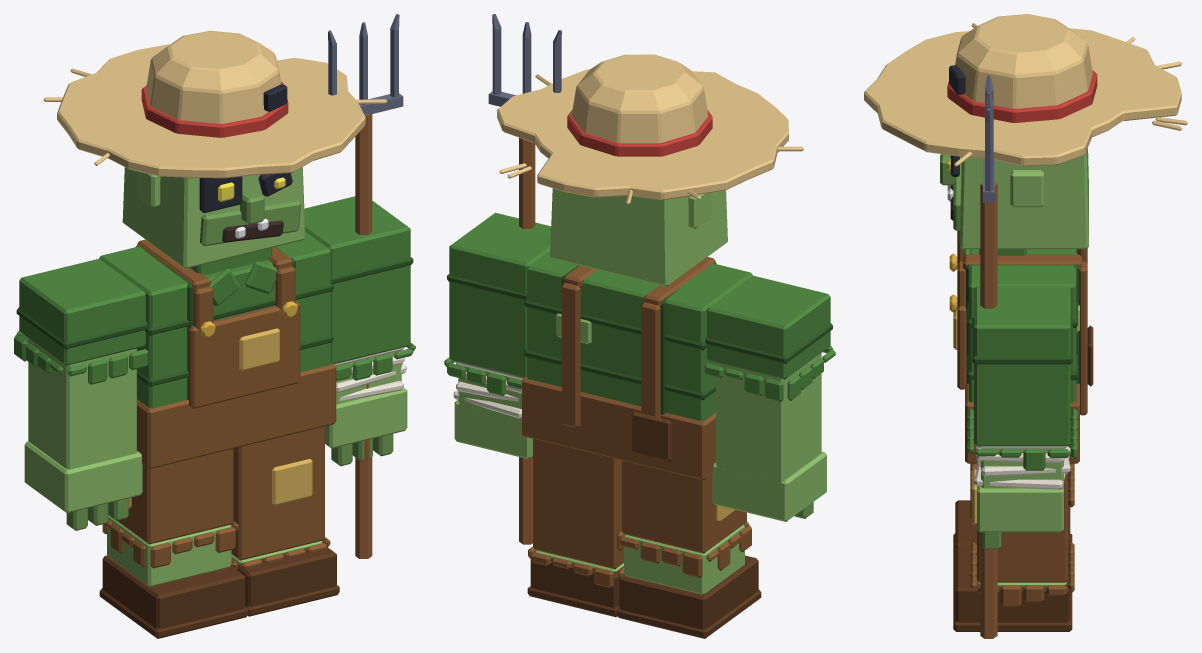
Rendered from myw_zombiefarmerboss.glb.
3 renders of one model, left to right at view 1: azimuth 30°, elevation 25°; view 2: azimuth 150°, elevation 25°; view 3: azimuth 270°, elevation 25°, orthographic. The views are drawn at different scales.
Visible parts, largest first — view 1: Torso, Hat, LeftArm, LeftLeg, RightArm, RightLeg, Head, Pitchfork; view 2: Torso, Hat, LeftArm, LeftLeg, RightArm, RightLeg, Head, Pitchfork; view 3: Hat, RightArm, Head, RightLeg, Torso, Pitchfork, LeftLeg.
Part boxes in pixels (<box>): Torso: <box>99,232,336,468</box>; Hat: <box>43,30,387,178</box>; LeftArm: <box>14,259,148,530</box>; LeftLeg: <box>99,448,247,638</box>; RightArm: <box>304,196,415,466</box>; RightLeg: <box>231,426,339,616</box>; Head: <box>122,167,305,268</box>; Pitchfork: <box>328,14,403,558</box>; Torso: <box>522,251,752,480</box>; Hat: <box>497,54,803,204</box>; LeftArm: <box>704,275,835,521</box>; LeftLeg: <box>617,460,761,638</box>; RightArm: <box>444,212,551,458</box>; RightLeg: <box>527,439,624,617</box>; Head: <box>550,188,727,286</box>; Pitchfork: <box>488,14,561,544</box>; Hat: <box>864,14,1187,166</box>; RightArm: <box>967,286,1077,549</box>; Head: <box>940,148,1088,249</box>; RightLeg: <box>953,468,1074,631</box>; Torso: <box>949,231,1093,463</box>; Pitchfork: <box>980,75,997,638</box>; LeftLeg: <box>953,463,1074,579</box>.
Size of the model in its own units: 4.4 by 6.45 by 3.38.
